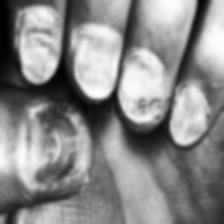Toxin: (16, 6, 122, 94), (23, 106, 87, 192), (170, 86, 204, 142)
